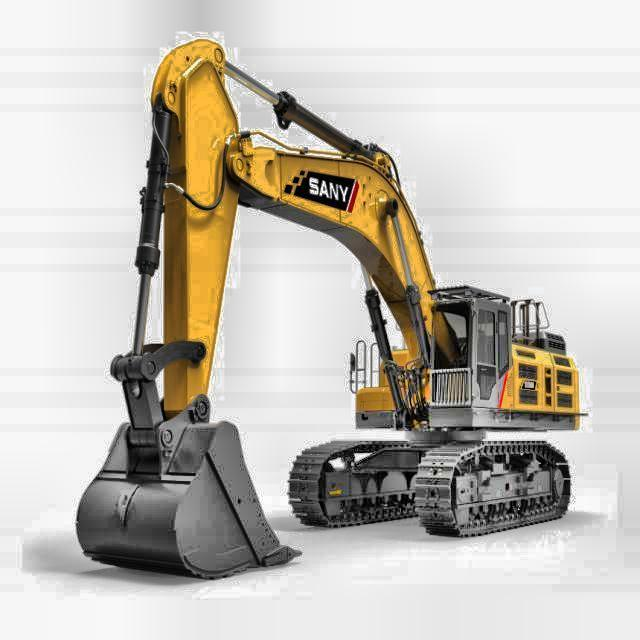excavator: (74, 35, 588, 582)
